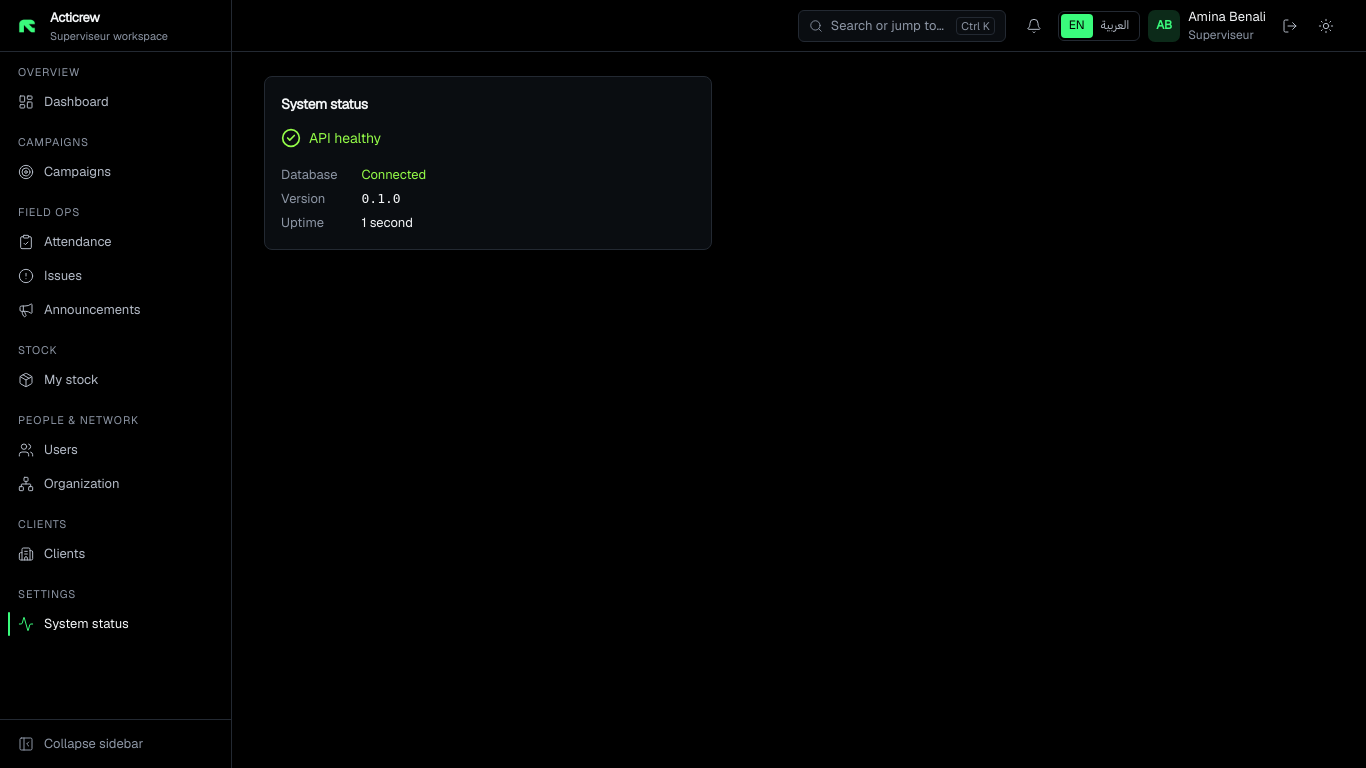
surface header and logout › shows the full name and translated role; logout clears the session and returns to /login
The image size is (1366, 768).
Expected: the text "Amina Benali" is shown, [1188, 7, 1266, 27]
Expected: the text "Superviseur" is shown, [1188, 27, 1254, 43]
Click the button named "Sign out": (1290, 26) [1274, 10, 1306, 42]
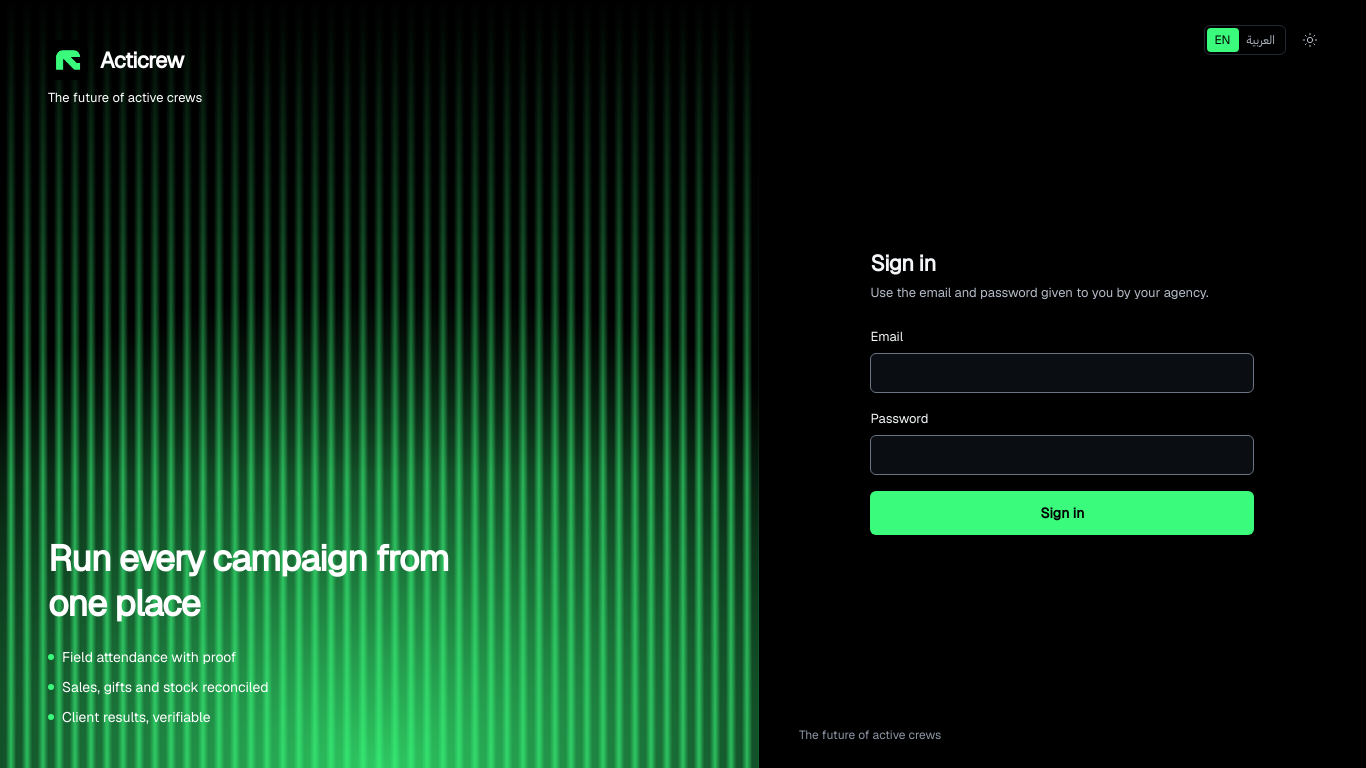
Now the heading "Sign in" is shown, box [870, 248, 936, 276]
